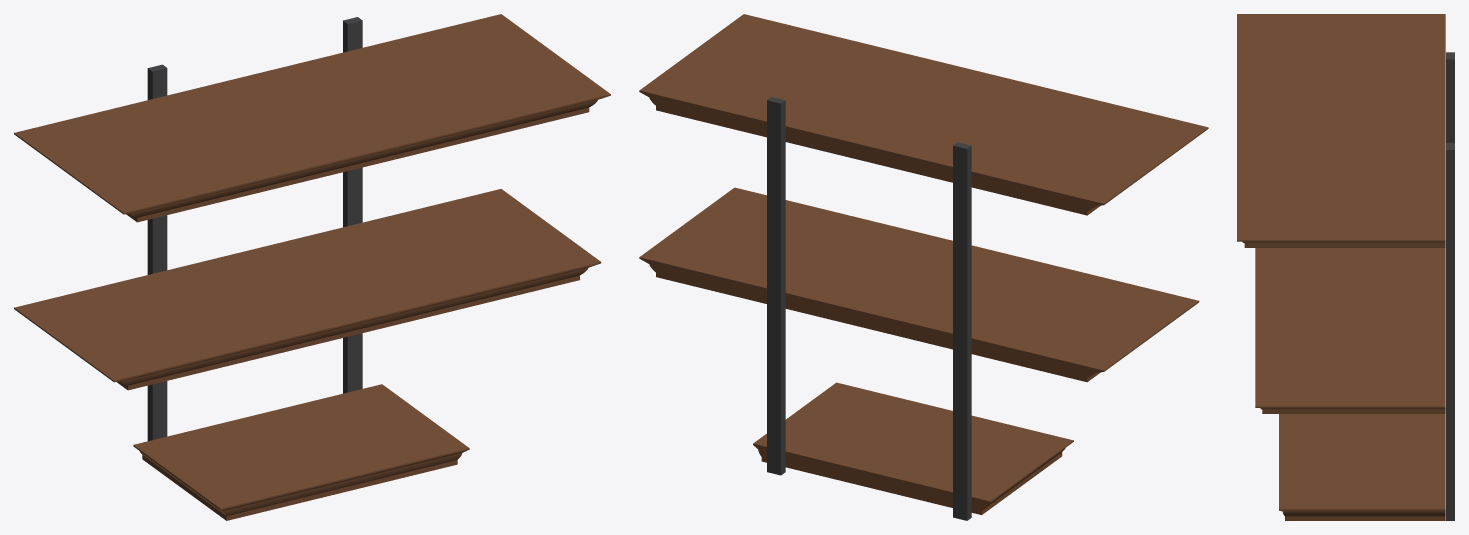
Rendered from Multi Wall Shelf.fbx.
The picture shows the model from 3 angles, left to right: view 1: azimuth 30°, elevation 25°; view 2: azimuth 150°, elevation 25°; view 3: azimuth 270°, elevation 25°; orthographic projection. The views are drawn at different scales.
Parts seen in each view (by area): view 1: Multi Wall Shelf; view 2: Multi Wall Shelf; view 3: Multi Wall Shelf.
Part boxes in pixels (x1,y1,x2,y2): Multi Wall Shelf: (14, 14, 610, 520); Multi Wall Shelf: (639, 14, 1208, 520); Multi Wall Shelf: (1237, 14, 1454, 520).
Bounding box in the file's own units: 121 × 92.29 × 49.13.
Materials: 1 (1 with a texture image).
